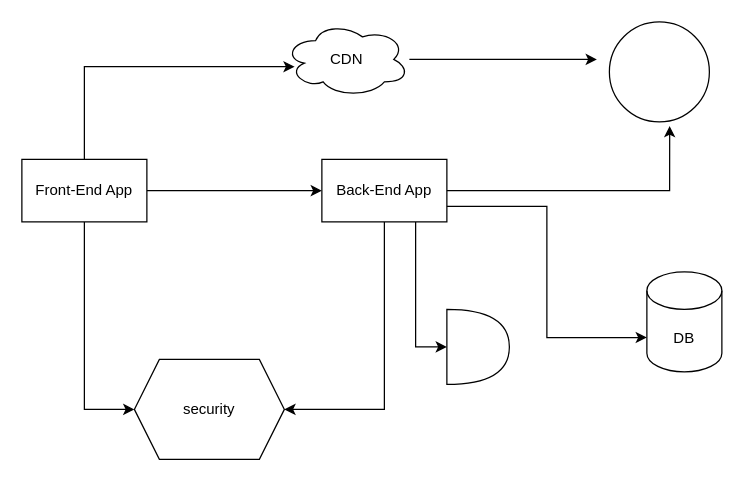
This 744x481 diagram has some shape labels left out. Here are the shapes that lost their labels. From the top down, the box of each, then its label:
(608, 21, 709, 122): Data storage
(446, 308, 509, 384): cache
